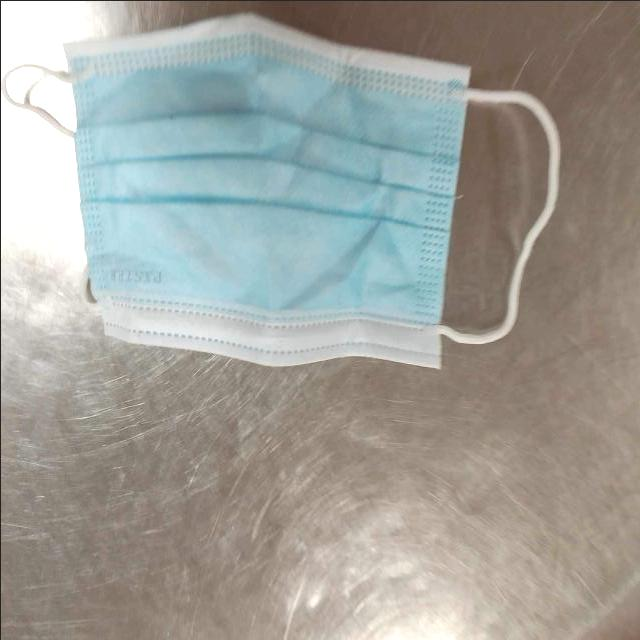General: (3, 10, 562, 371)
